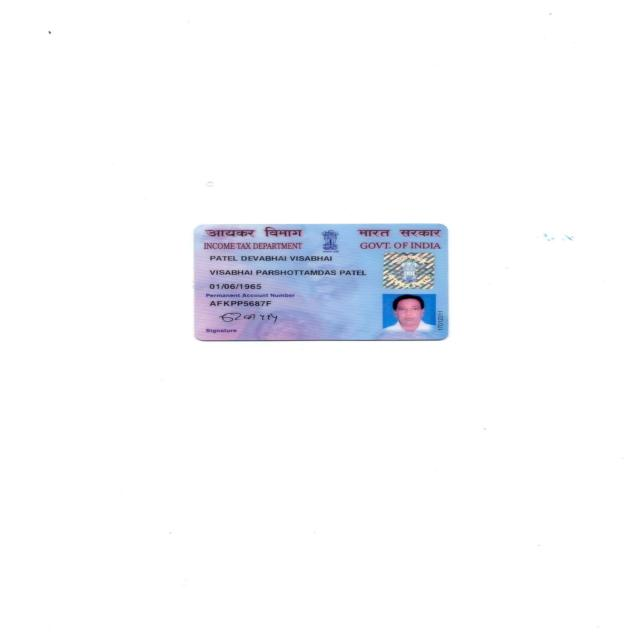pan_card: (187, 220, 448, 342)
